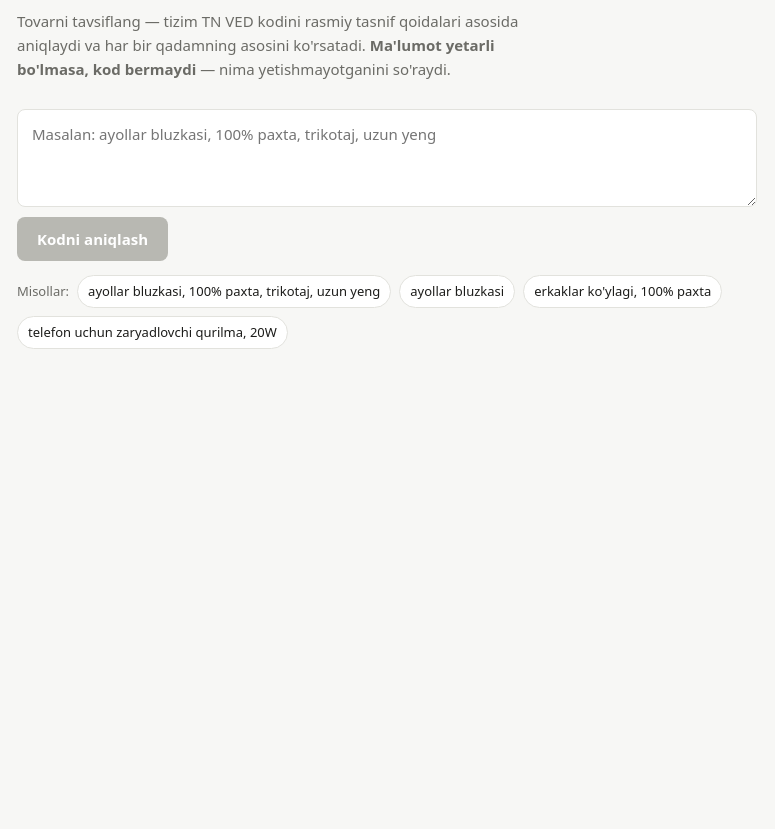
to'liq sikl › javob berilgach so'rov javoblar bilan qayta yuboriladi
Type "ayollar bluzkasi, 100% paxta" into the text box. click: (387, 158)
box: [17,109,757,207]
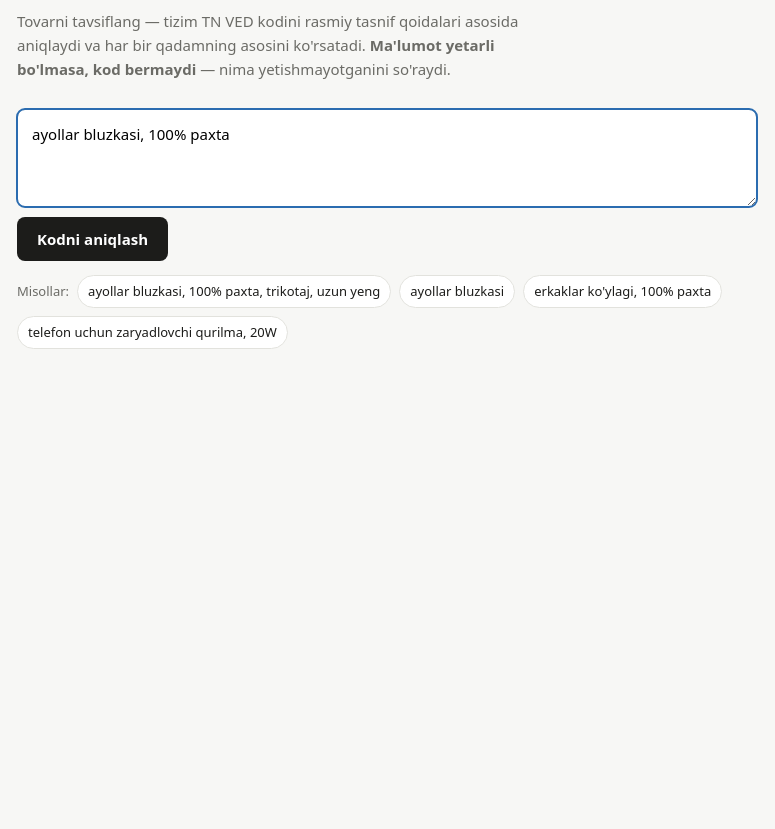
Click the button "Kodni aniqlash". click: (92, 239)
box: [17,217,168,261]
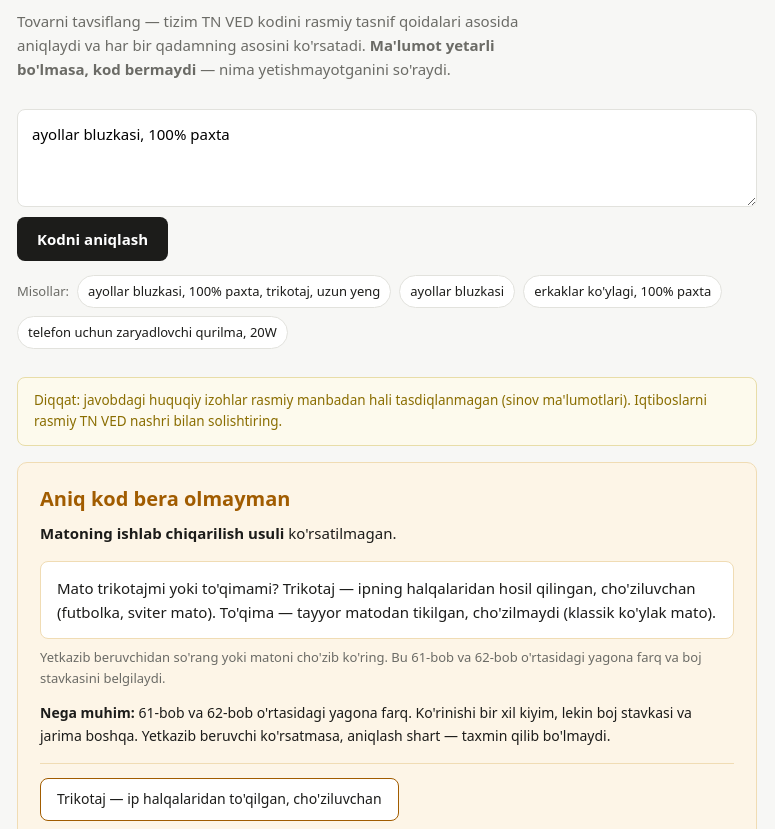
Note: Variantni tanlaymiz
Click the 1st button with test id "answer-option". click: (219, 799)
box: [40,778,399,821]
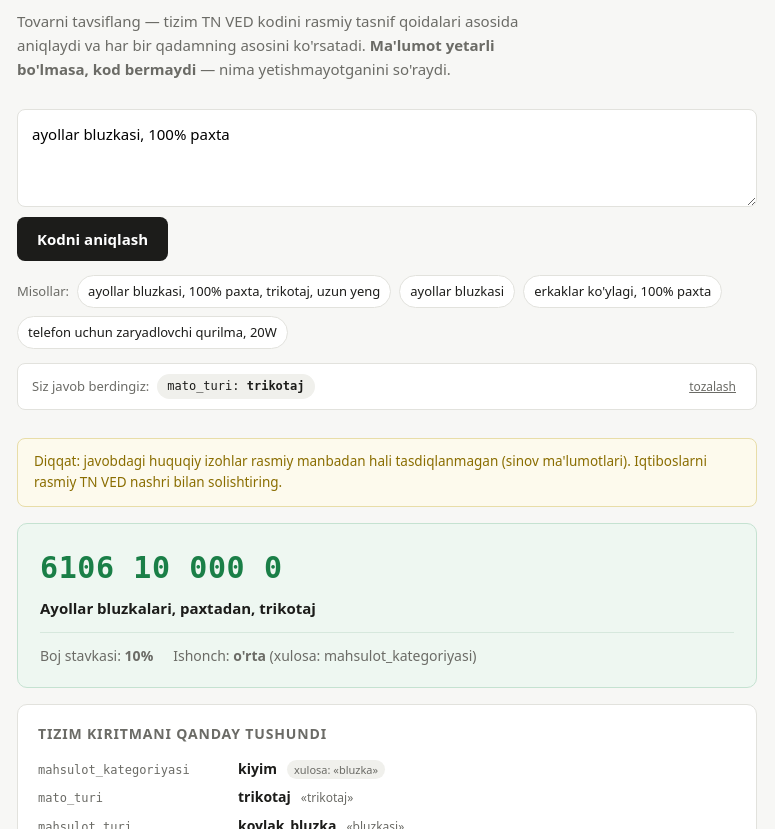
Result: the text "6106 10 000 0" is shown at [40,550,283,585]
